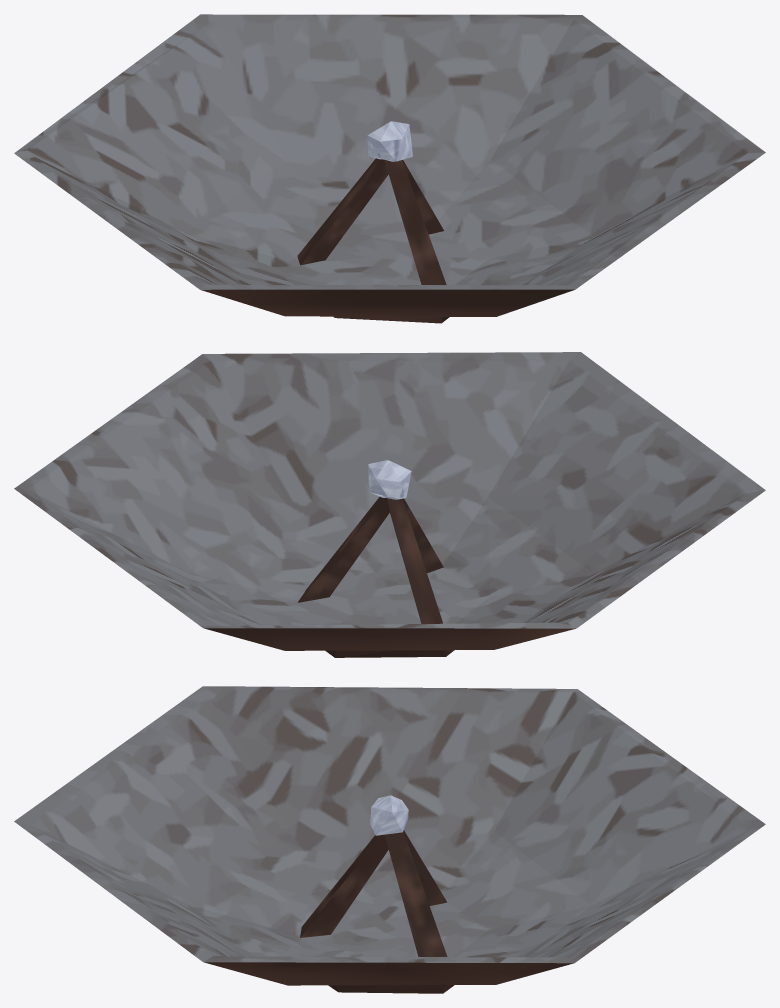
Rendered from antena.glb.
3 renders of one model, top to bottom at view 1: azimuth 30°, elevation 25°; view 2: azimuth 150°, elevation 25°; view 3: azimuth 270°, elevation 25°, orthographic.
Parts seen in each view (by area): view 1: Dish_big; view 2: Dish_big; view 3: Dish_big.
Part boxes in pixels (x1,y1,x2,y2): Dish_big: [14, 14, 765, 323]; Dish_big: [14, 352, 765, 657]; Dish_big: [14, 686, 765, 993].
Bounding box in the file's own units: 6.2 × 1.68 × 7.13.
1 material, 1 textured.
